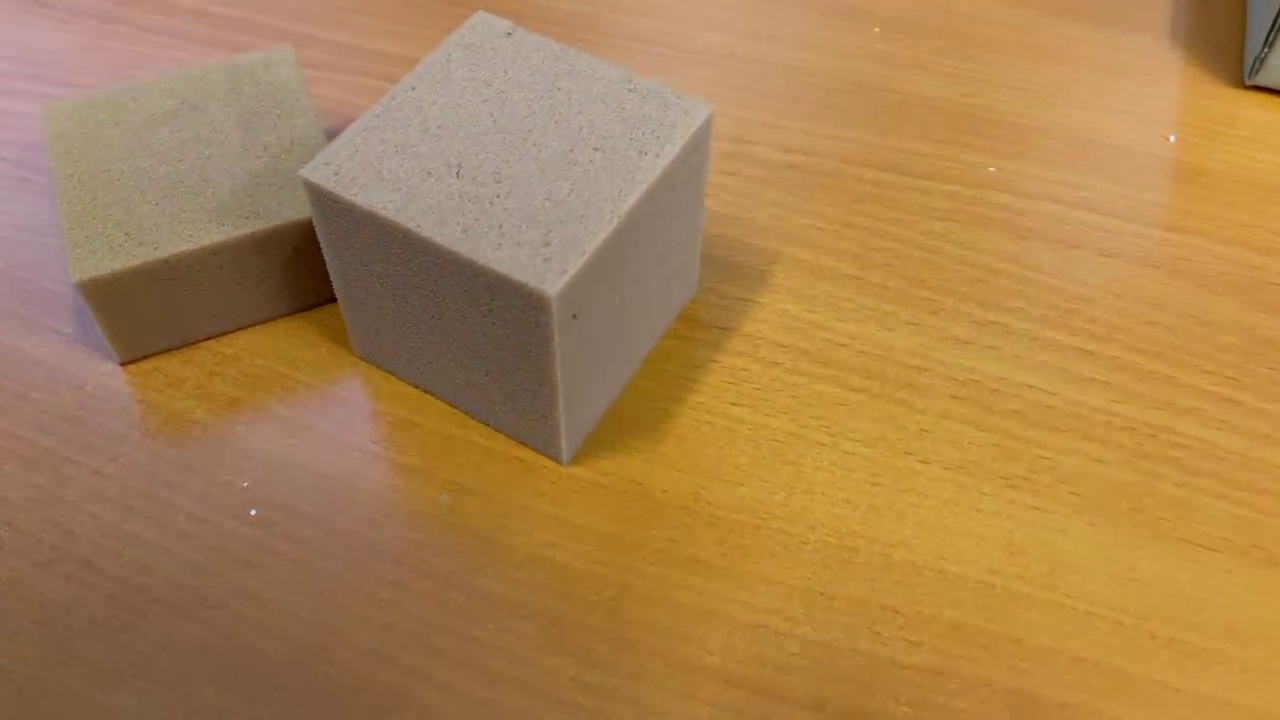Cube: (294, 4, 717, 469)
Cube_short: (44, 40, 334, 366)
